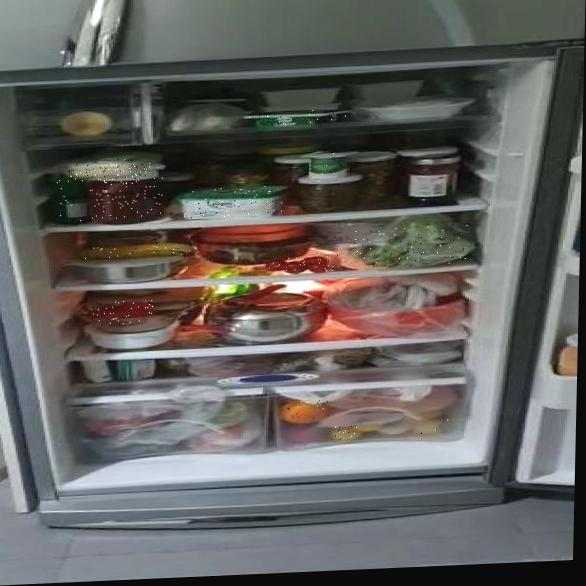banana: (80, 242, 198, 260)
cheese: (182, 185, 285, 219), (68, 157, 150, 178)
cream cheese: (246, 108, 346, 127)
lemon: (413, 418, 449, 435), (331, 425, 363, 441)
lettuce: (352, 223, 470, 269)
mineral water: (56, 176, 96, 226)
orange: (283, 400, 330, 424)
tomato: (90, 300, 156, 326), (268, 255, 340, 274)
tomato paste: (94, 173, 164, 220)
yoghurt: (303, 150, 350, 179)
